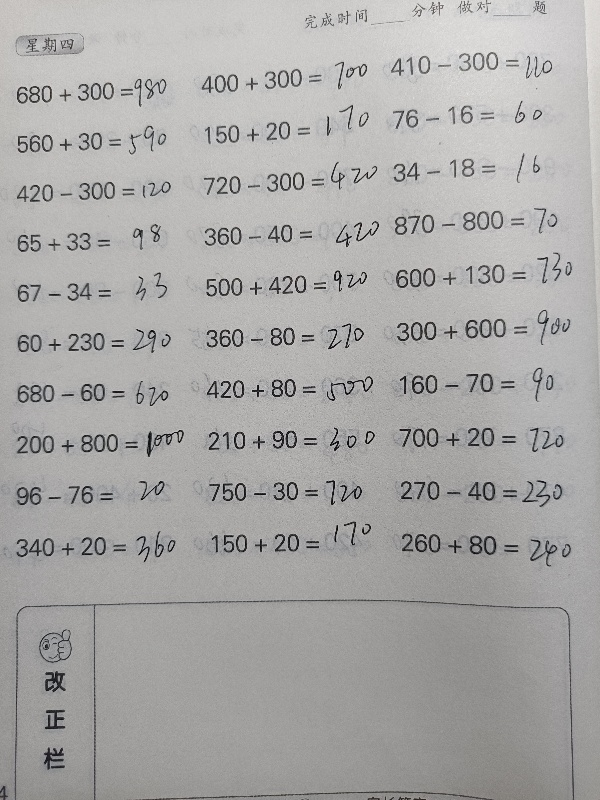equation: (195, 155, 380, 203), (386, 250, 585, 294), (7, 526, 187, 572), (196, 104, 374, 149), (202, 516, 383, 560), (8, 71, 188, 115), (391, 469, 571, 512), (8, 122, 188, 165), (8, 424, 188, 466), (8, 371, 188, 412), (382, 43, 562, 84), (388, 311, 577, 350), (392, 526, 573, 566), (201, 473, 381, 513), (197, 370, 377, 410), (8, 320, 188, 360), (200, 420, 380, 459), (197, 264, 377, 301), (196, 217, 381, 253), (391, 420, 571, 455), (391, 365, 571, 400), (197, 319, 377, 354), (385, 204, 565, 239), (7, 478, 187, 512), (384, 152, 564, 186), (384, 99, 564, 133), (192, 63, 372, 97), (8, 276, 188, 309), (8, 225, 188, 258), (15, 176, 184, 206)
